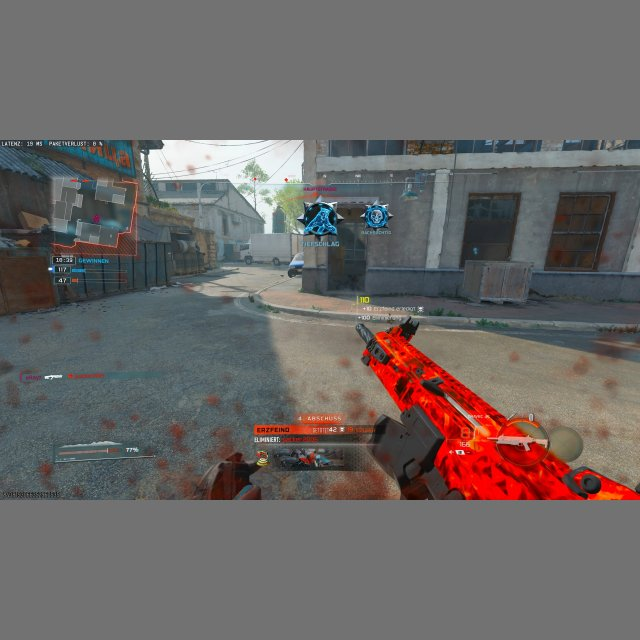player: (302, 199, 341, 235), (272, 256, 281, 267)
